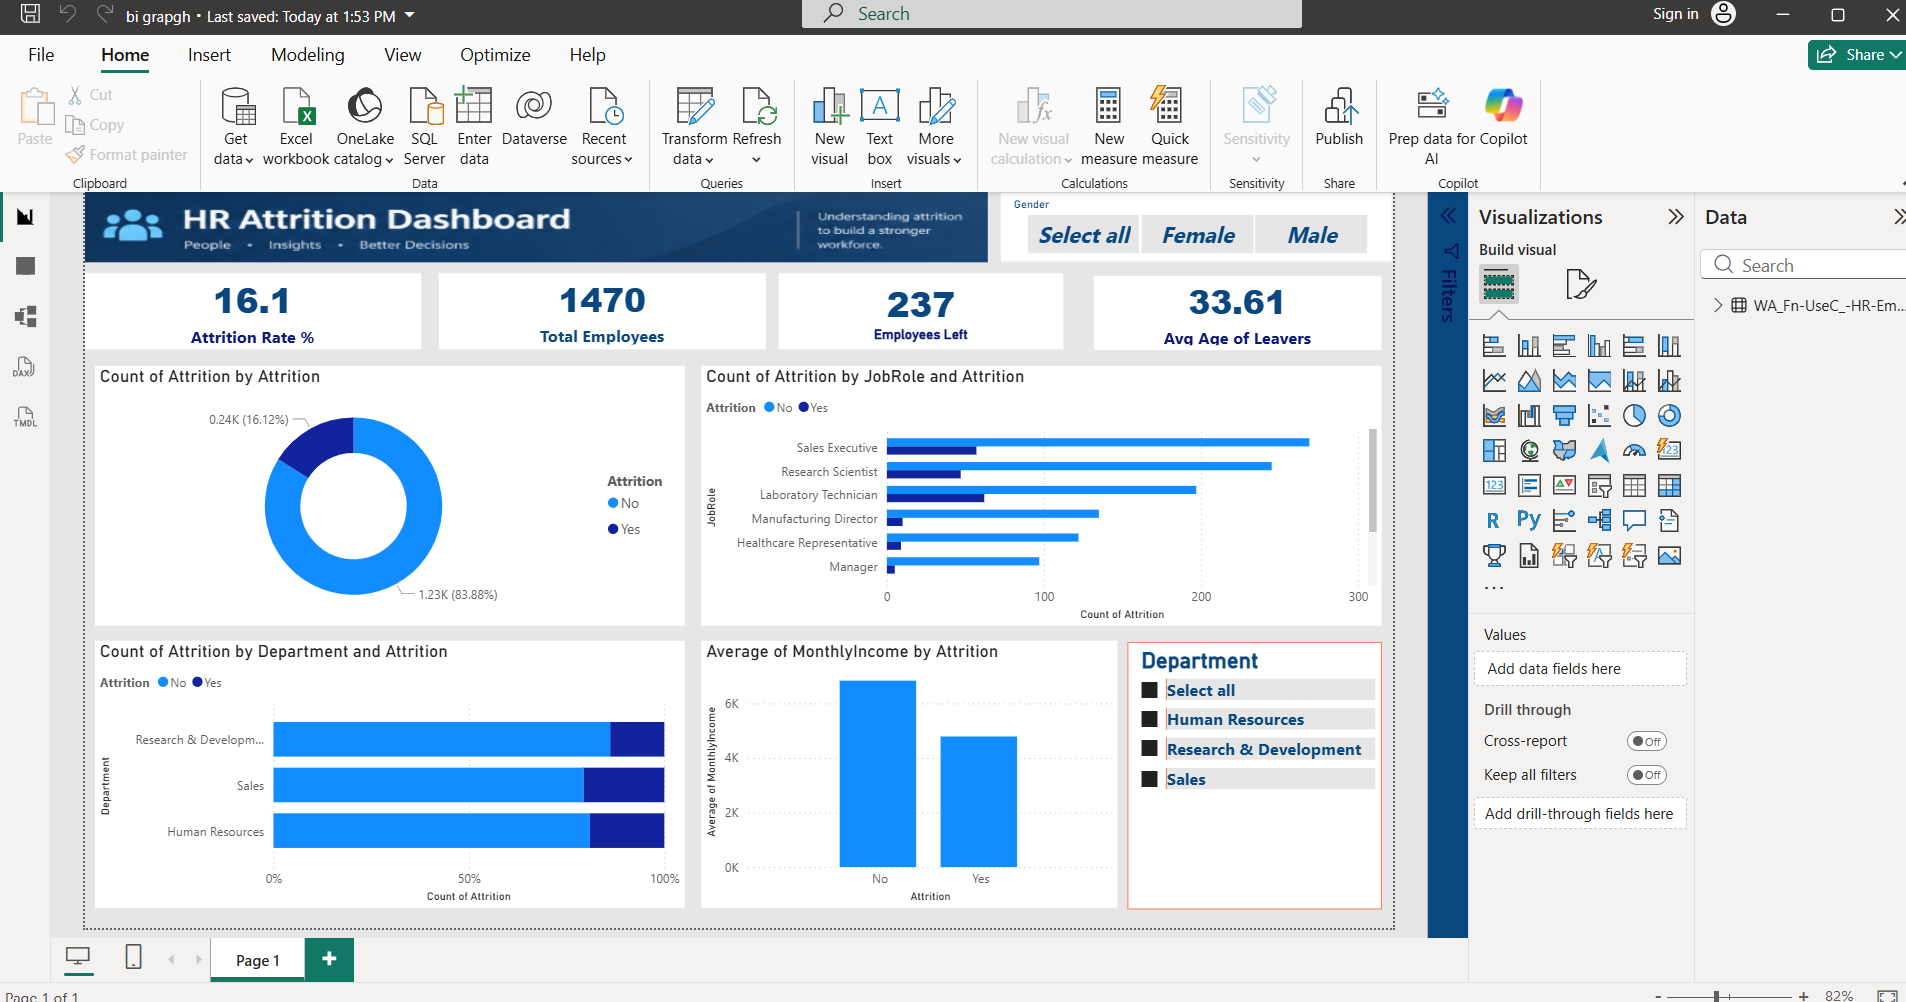

What the dashboard file says about the page in this screenshot:
{"tool":"powerbi","page":{"name":"Page 1","canvas":[1280,720],"ordinal":0},"visuals":[{"type":"donutChart","fields":{"Category":["WA_Fn-UseC_-HR-Employee-Attrition.Attrition"],"Y":["CountNonNull(WA_Fn-UseC_-HR-Employee-Attrition.Attrition)"]},"box":[10,170,577.1,254.3],"z":0},{"type":"hundredPercentStackedBarChart","fields":{"Category":["WA_Fn-UseC_-HR-Employee-Attrition.Department"],"Y":["CountNonNull(WA_Fn-UseC_-HR-Employee-Attrition.Attrition)"],"Series":["WA_Fn-UseC_-HR-Employee-Attrition.Attrition"]},"box":[10,438.6,577.1,261.4],"z":1000},{"type":"clusteredBarChart","fields":{"Category":["WA_Fn-UseC_-HR-Employee-Attrition.JobRole"],"Y":["CountNonNull(WA_Fn-UseC_-HR-Employee-Attrition.Attrition)"],"Series":["WA_Fn-UseC_-HR-Employee-Attrition.Attrition"]},"box":[602.9,170,665.7,254.3],"z":2000},{"type":"card","fields":{"Values":["WA_Fn-UseC_-HR-Employee-Attrition.Attrition Rate %"]},"box":[0,80,328.6,74.3],"z":3000},{"type":"clusteredColumnChart","fields":{"Category":["WA_Fn-UseC_-HR-Employee-Attrition.Attrition"],"Y":["Avg(WA_Fn-UseC_-HR-Employee-Attrition.MonthlyIncome)"]},"box":[602.9,438.6,407.1,261.4],"z":4000},{"type":"card","fields":{"Values":["WA_Fn-UseC_-HR-Employee-Attrition.Total Employees","select"]},"box":[345.7,80,320,74.3],"z":5000},{"type":"card","fields":{"Values":["WA_Fn-UseC_-HR-Employee-Attrition.Employees Left"]},"box":[678.6,80,278.6,74.3],"z":6000},{"type":"card","fields":{"Values":["WA_Fn-UseC_-HR-Employee-Attrition.Avg Age of Leavers"]},"box":[987.1,81.4,281.4,72.9],"z":7000},{"type":"slicer","fields":{"Values":["WA_Fn-UseC_-HR-Employee-Attrition.Department"]},"box":[1020,440,248.6,261.4],"z":8000},{"type":"slicer","fields":{"Values":["WA_Fn-UseC_-HR-Employee-Attrition.Gender"]},"box":[895.7,0,384.3,68.6],"z":9000},{"type":"image","box":[0,0,882.9,68.6],"z":10001}]}

Visuals, with their boxes on the page's 1280x720 design canvas (x1, y1, x2, y2). These are canvas units, not pixel positions in the 1906x1002 screenshot, which may show the page scaled, cropped or inside an application window:
donutChart - WA_Fn-UseC_-HR-Employee-Attrition.Attrition x CountNonNull(WA_Fn-UseC_-HR-Employee-Attrition.Attrition): (10,170,587,424)
hundredPercentStackedBarChart - WA_Fn-UseC_-HR-Employee-Attrition.Department x CountNonNull(WA_Fn-UseC_-HR-Employee-Attrition.Attrition): (10,439,587,700)
clusteredBarChart - WA_Fn-UseC_-HR-Employee-Attrition.JobRole x CountNonNull(WA_Fn-UseC_-HR-Employee-Attrition.Attrition): (603,170,1269,424)
card - WA_Fn-UseC_-HR-Employee-Attrition.Attrition Rate %: (0,80,329,154)
clusteredColumnChart - WA_Fn-UseC_-HR-Employee-Attrition.Attrition x Avg(WA_Fn-UseC_-HR-Employee-Attrition.MonthlyIncome): (603,439,1010,700)
card - WA_Fn-UseC_-HR-Employee-Attrition.Total Employees x select: (346,80,666,154)
card - WA_Fn-UseC_-HR-Employee-Attrition.Employees Left: (679,80,957,154)
card - WA_Fn-UseC_-HR-Employee-Attrition.Avg Age of Leavers: (987,81,1268,154)
slicer - WA_Fn-UseC_-HR-Employee-Attrition.Department: (1020,440,1269,701)
slicer - WA_Fn-UseC_-HR-Employee-Attrition.Gender: (896,0,1280,69)
image: (0,0,883,69)
